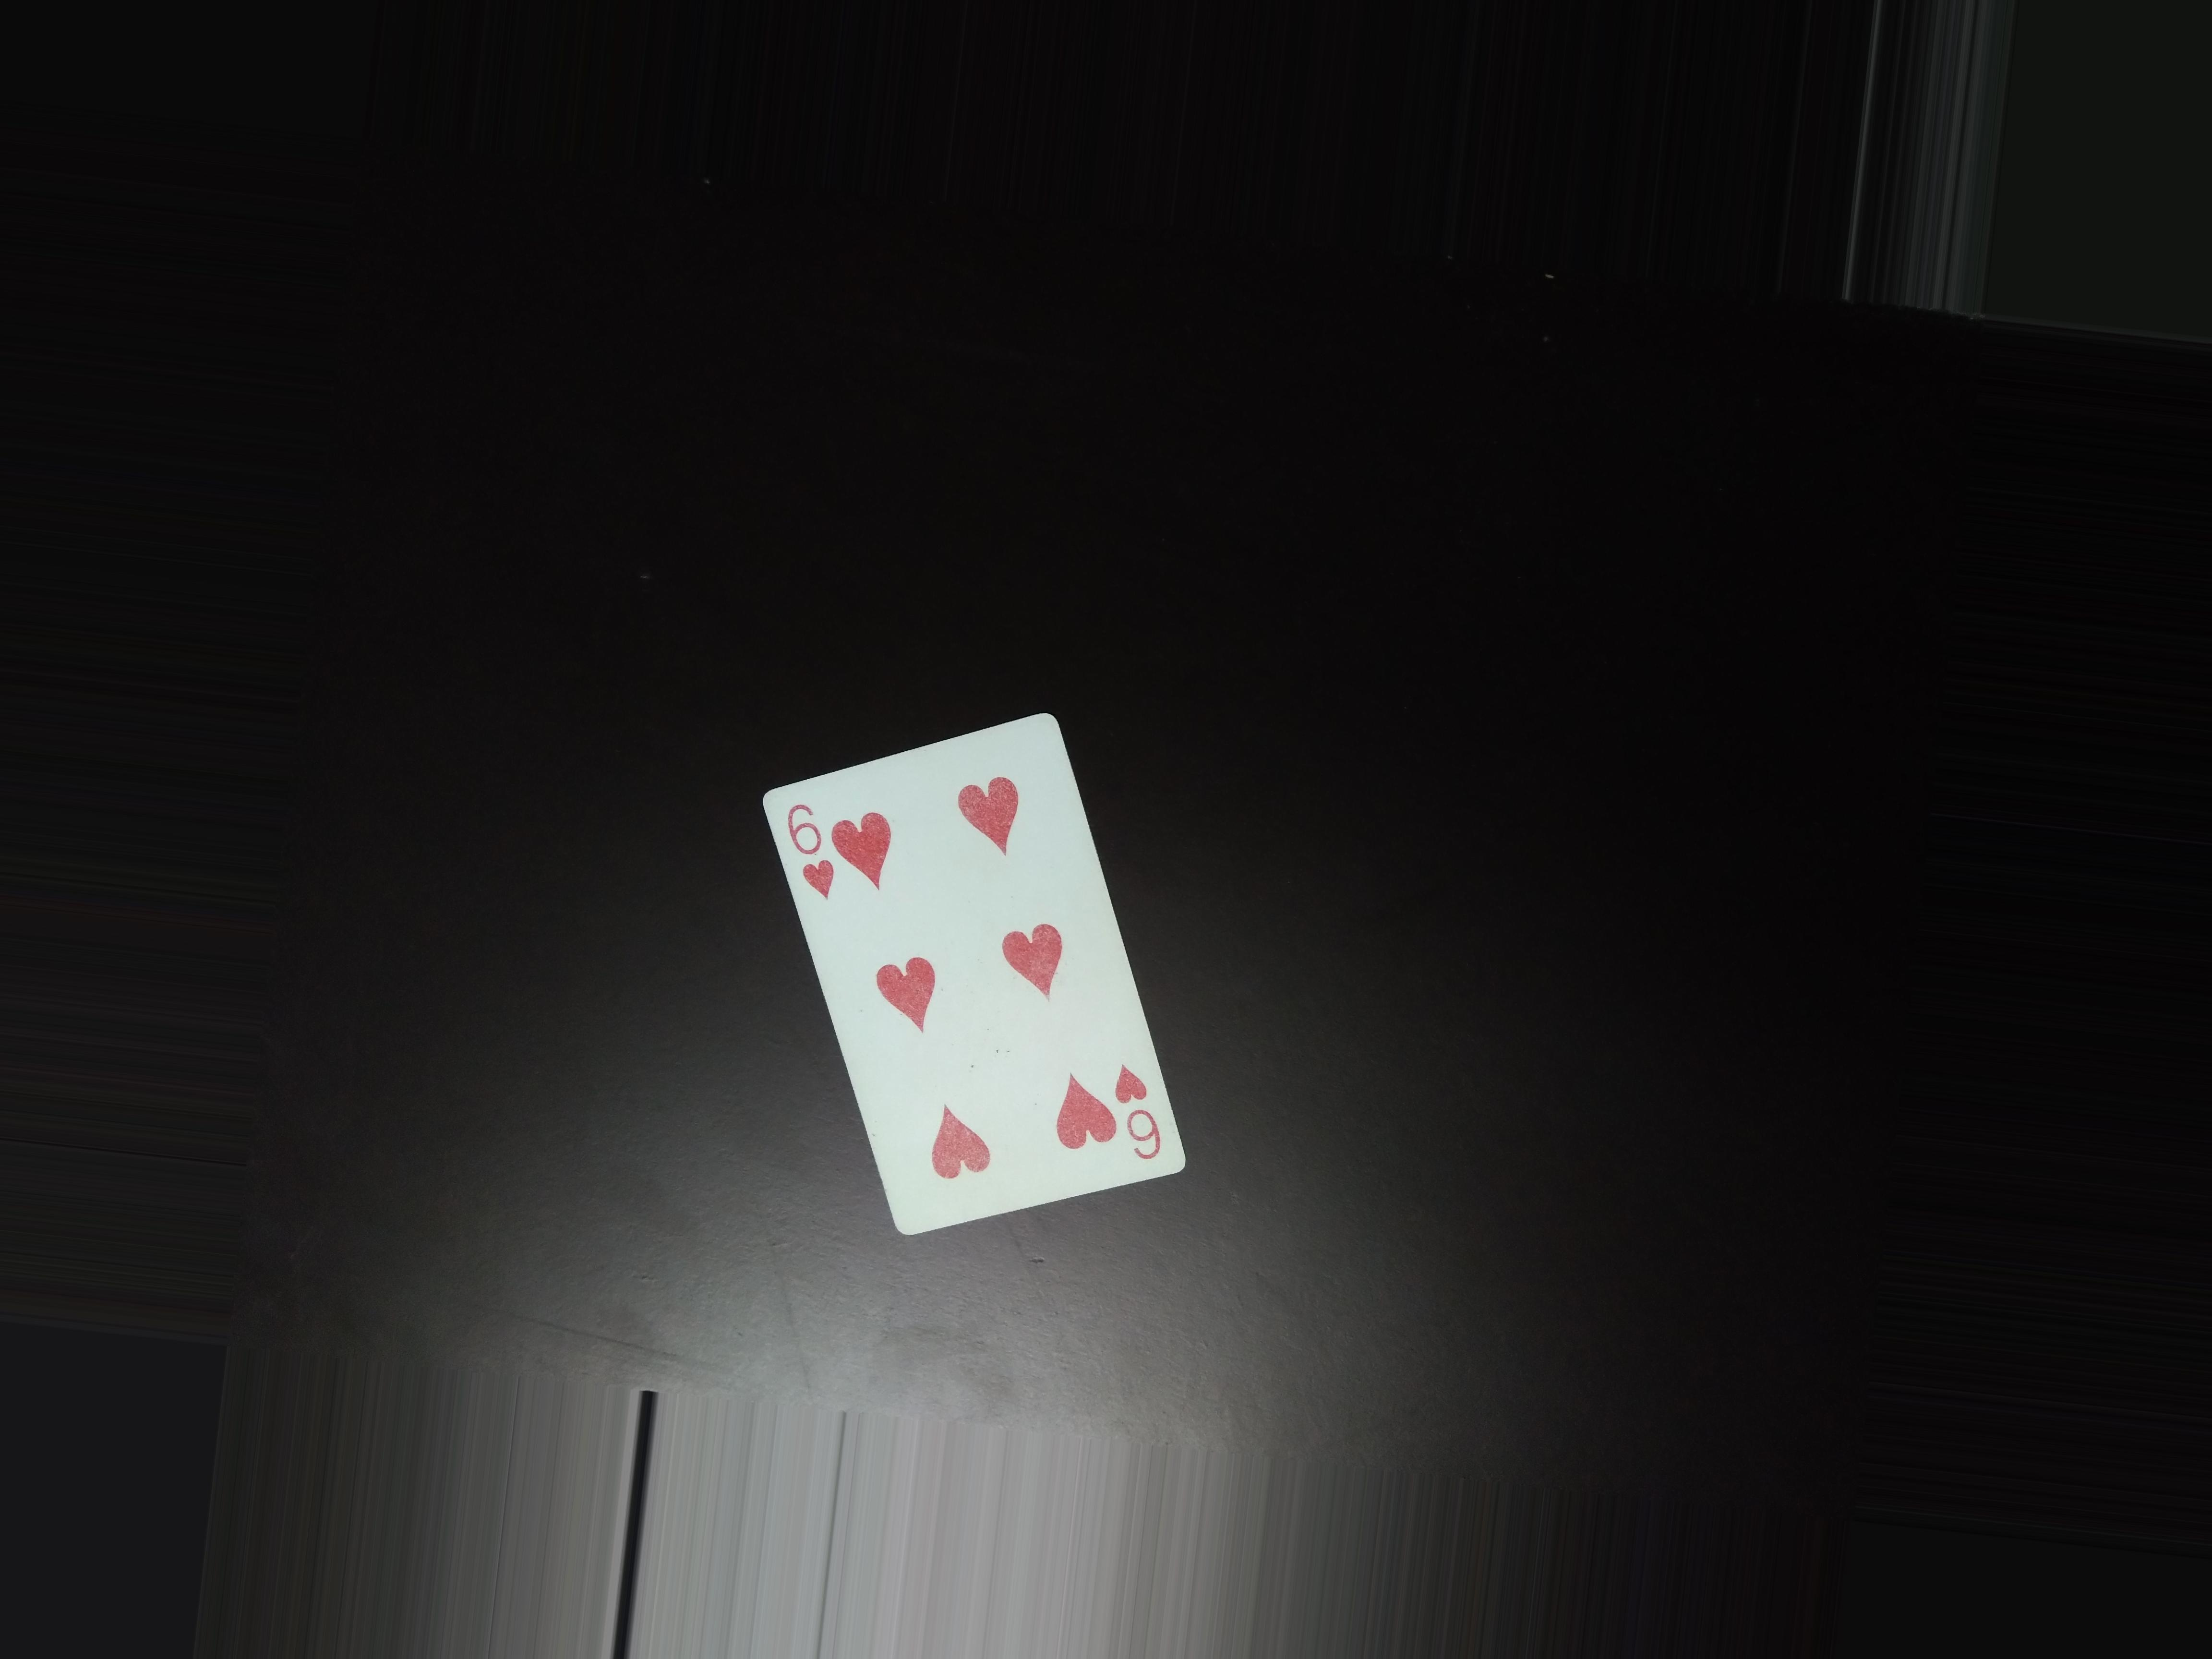6H: (777, 800, 841, 901)
